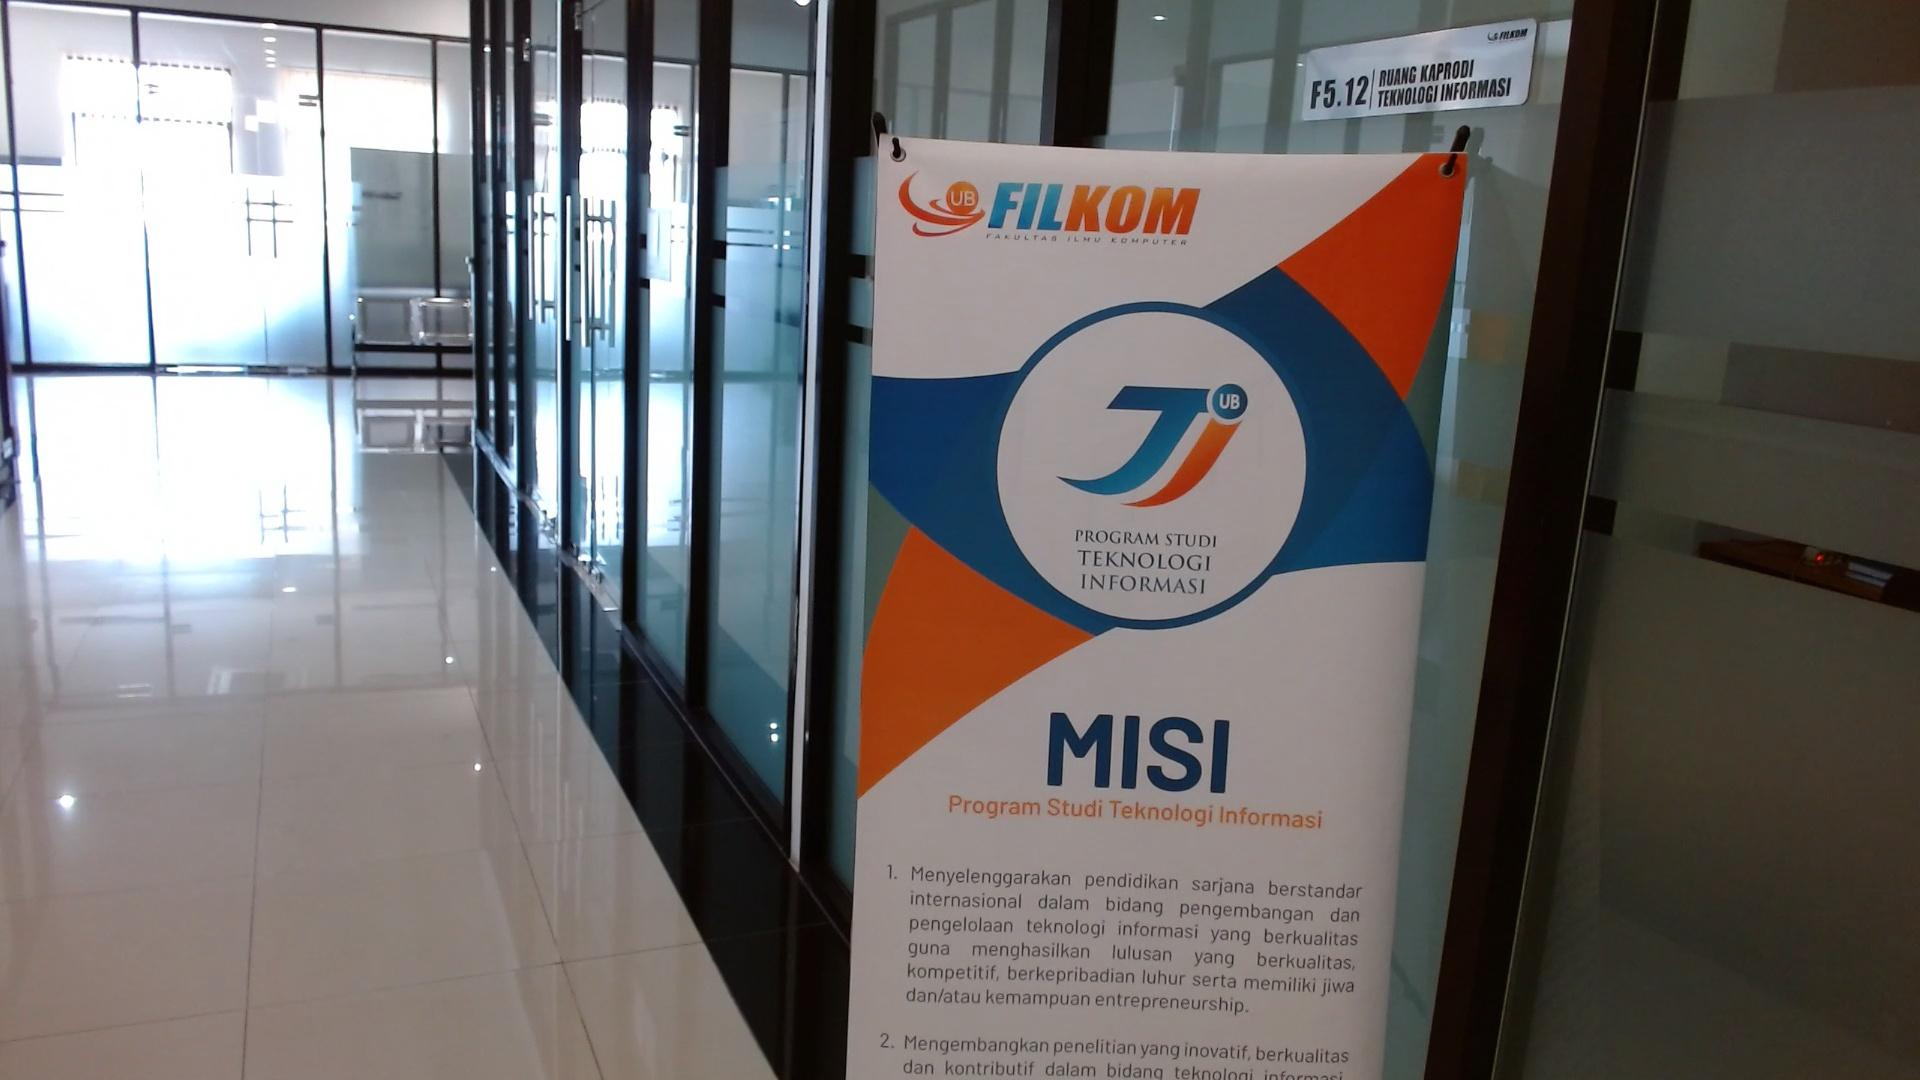plate: (1302, 18, 1538, 121)
